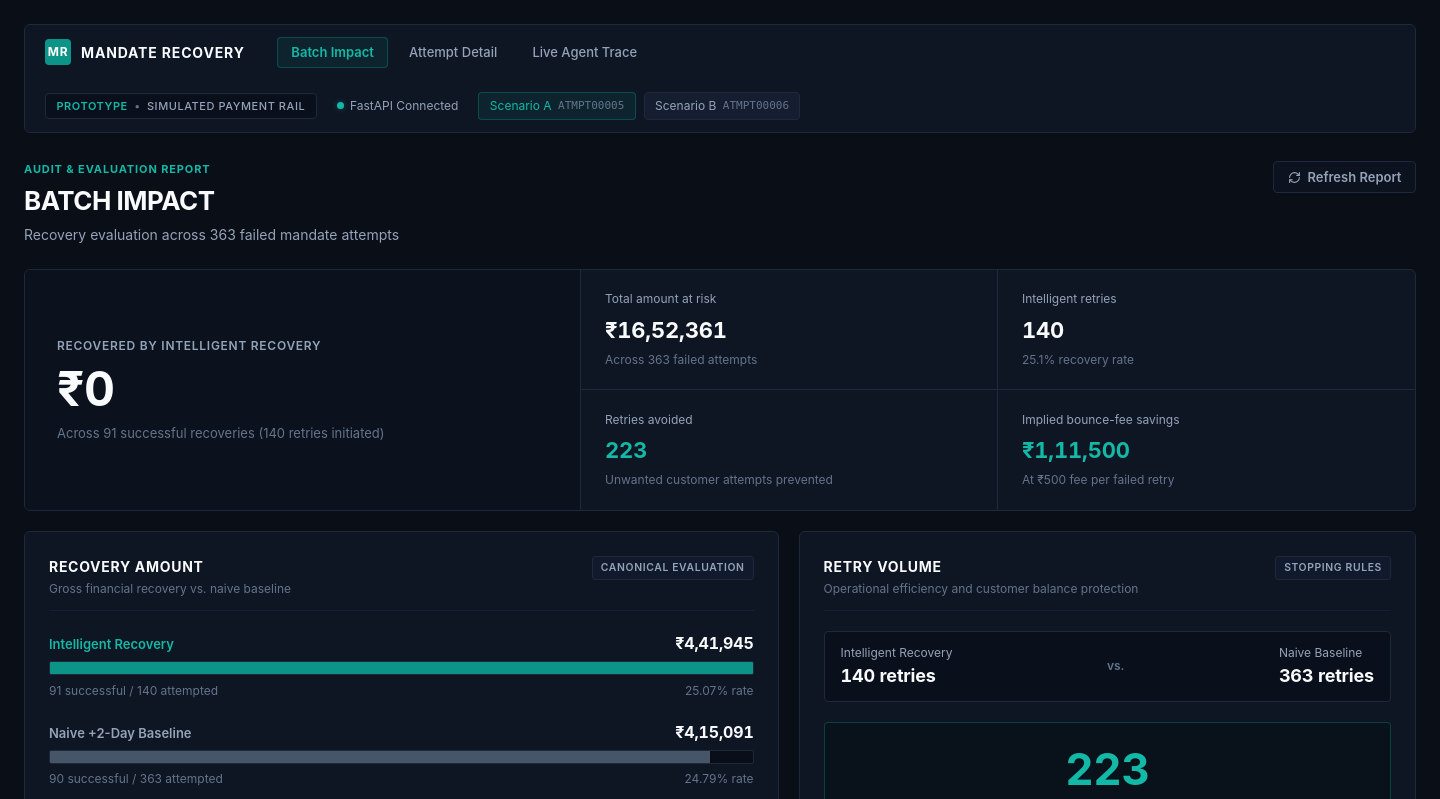
Scenario: Mandate Recovery Fintech Platform Integration › allows navigation between Batch Impact, Attempt Detail, and Live Agent Trace
Expected: the heading "BATCH IMPACT" is shown, [24,186,214,216]
# Switch to Attempt Detail
Click the button "Attempt Detail" at (453, 52), box [394,37,512,68]
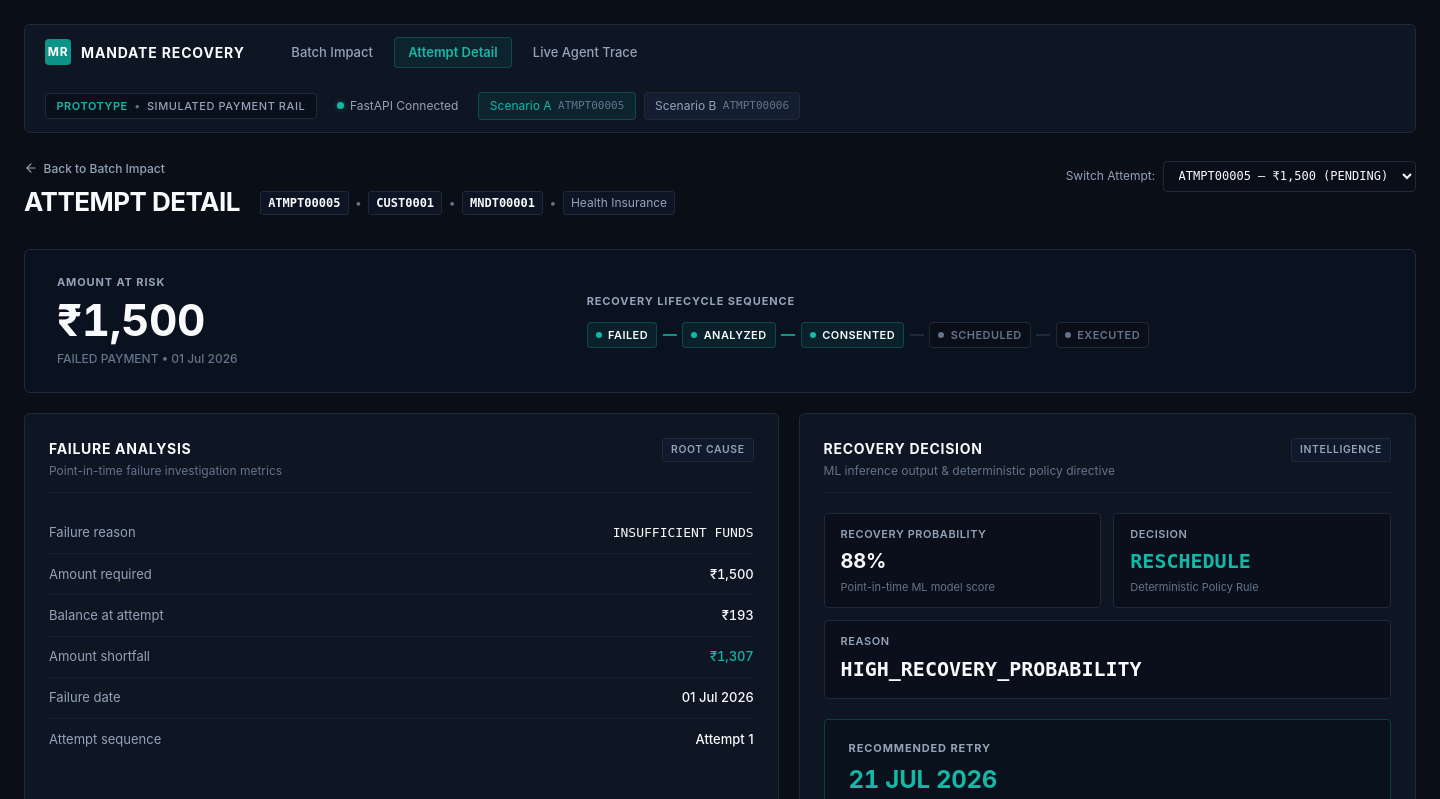
Expected: the text "ATMPT00005" in the row of "FastAPI Connected" is shown, [558,99,624,112]
Expected: the text "RESCHEDULE" is shown, [1130,549,1251,573]
# Switch to Live Agent Trace
Click the button "Live Agent Trace" at (585, 52), box [518,37,652,68]
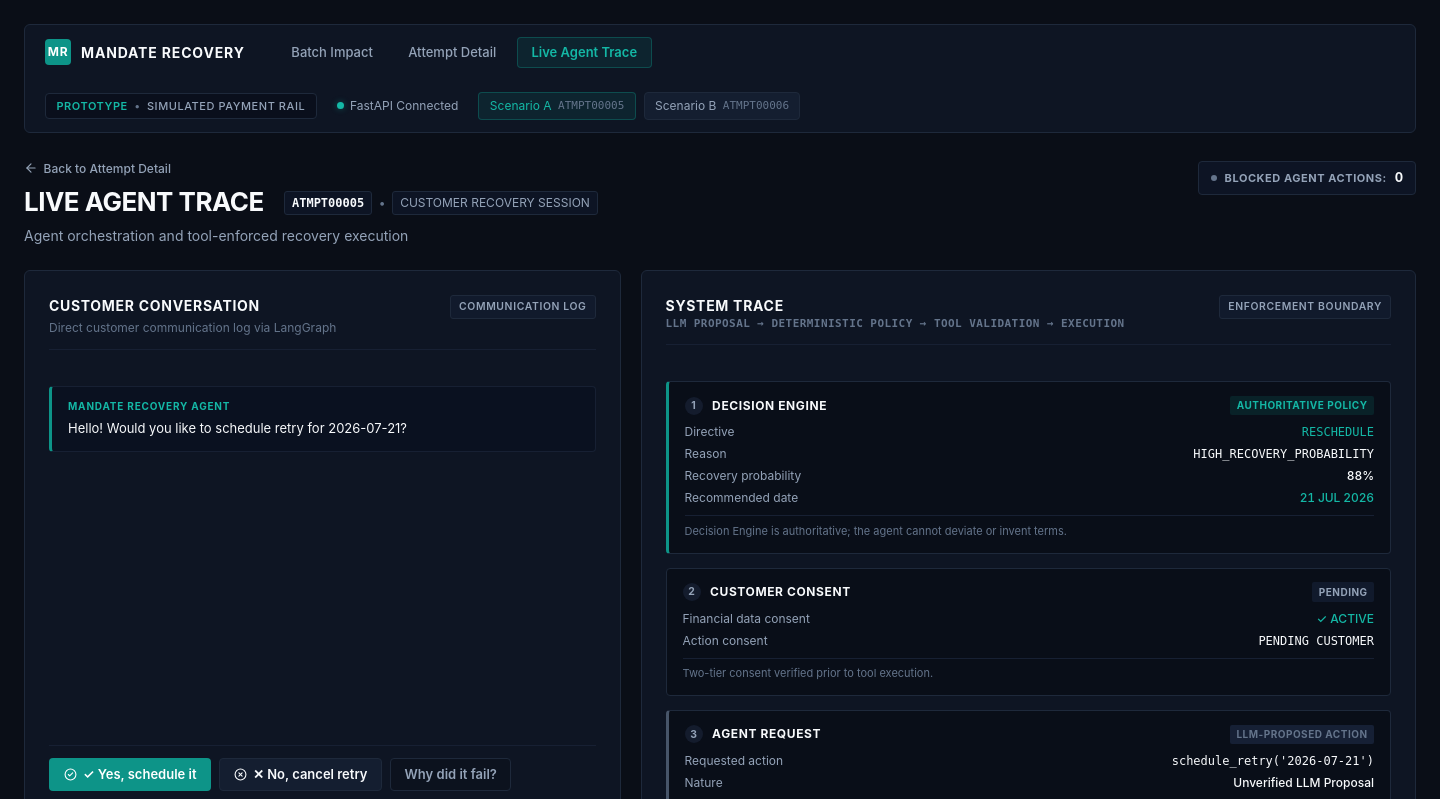
# Switch back to Batch Impact
Click the button "Batch Impact" at (332, 52), box [277,37,388,68]
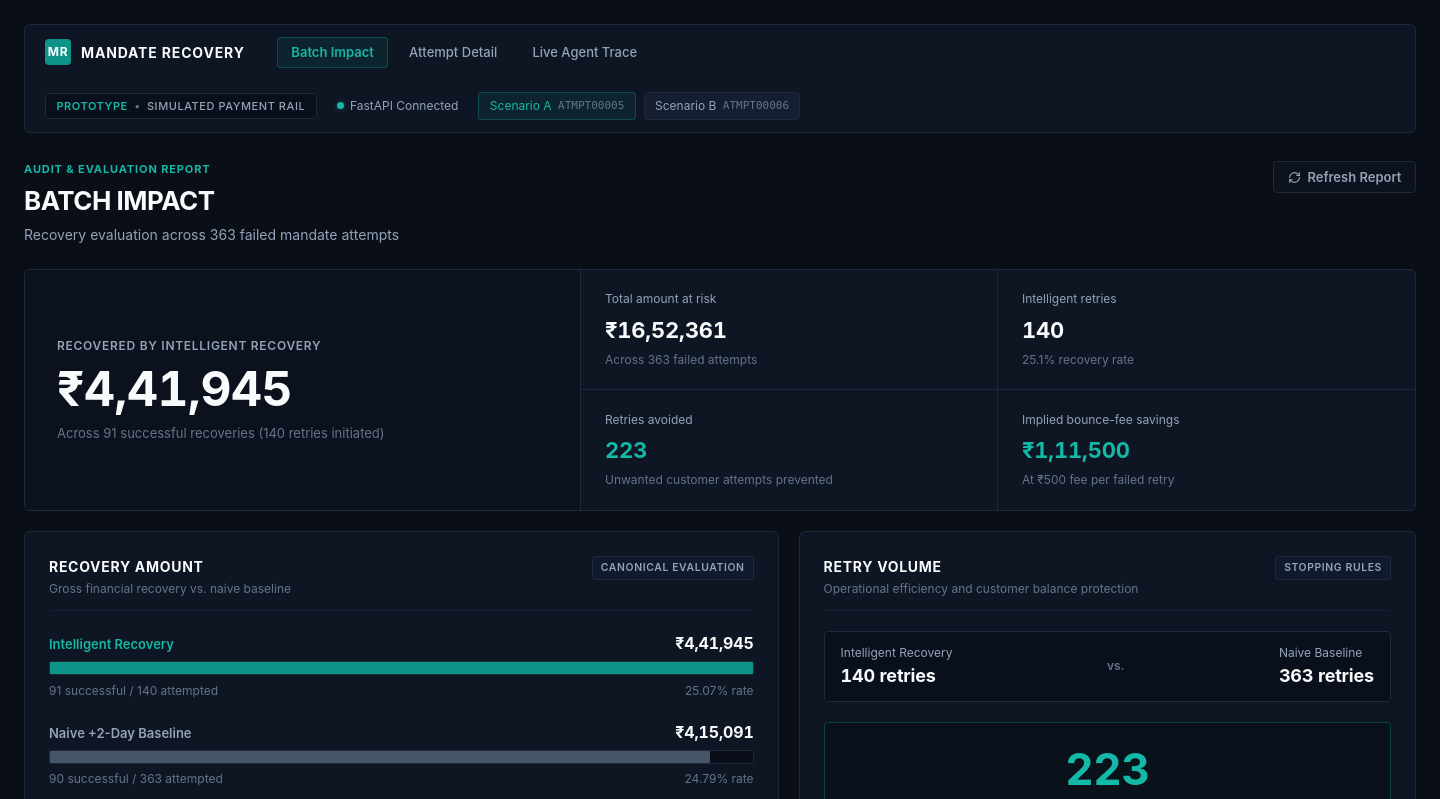
Expected: the heading "BATCH IMPACT" is shown, [24,186,214,216]
